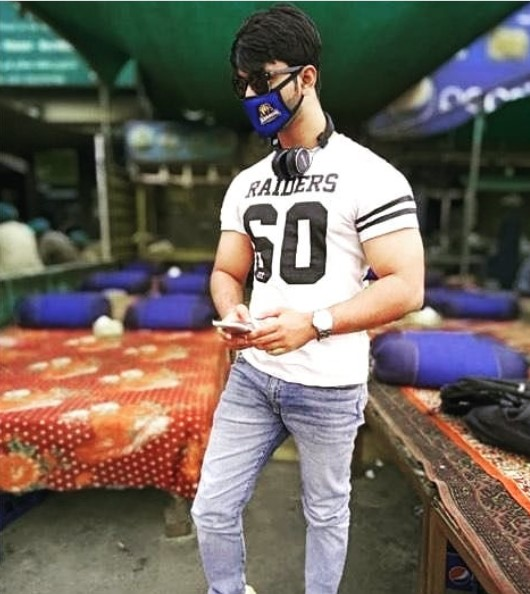face_with_mask: (229, 5, 321, 140)
